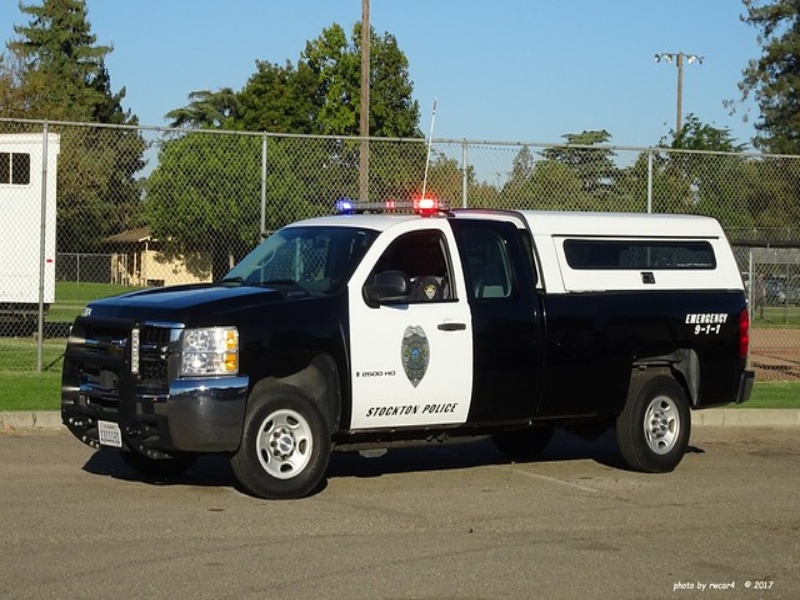policecar: (25, 163, 778, 505)
